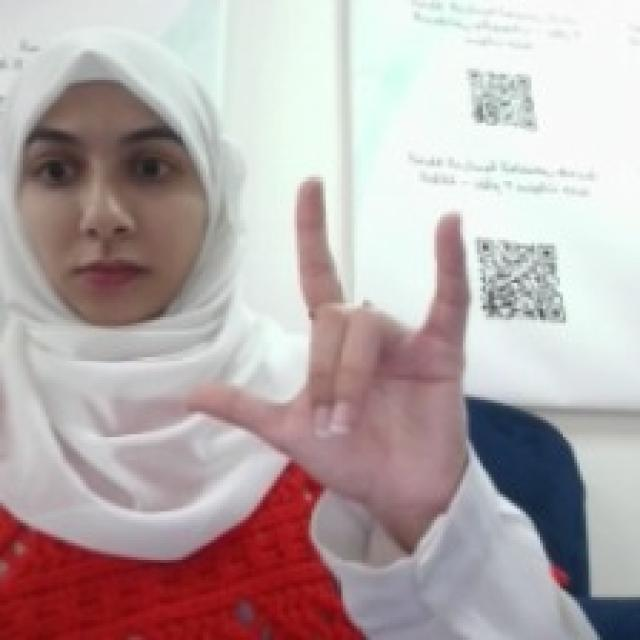love: (175, 168, 474, 506)
